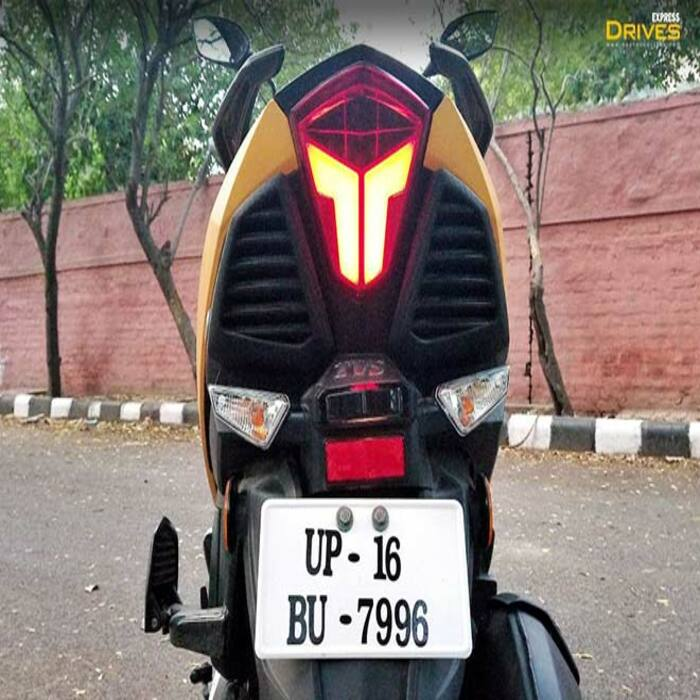n: (253, 487, 478, 660)
